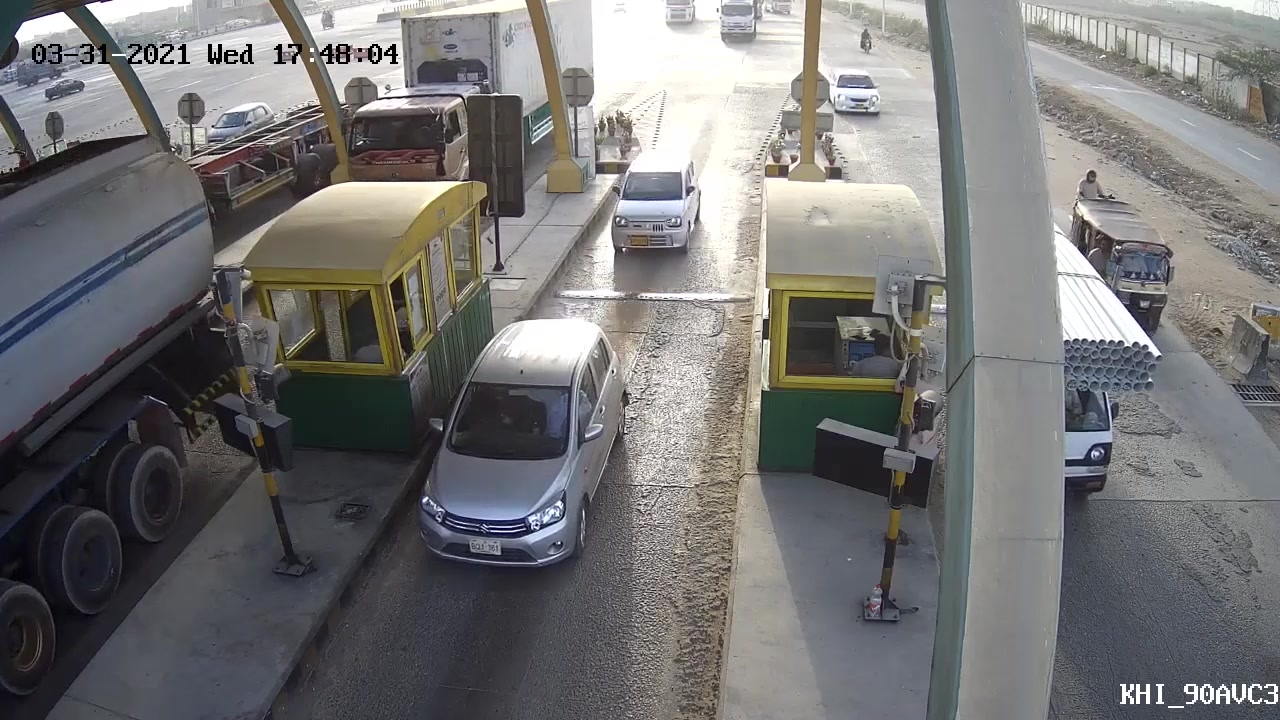F1: (411, 320, 635, 581), (599, 146, 707, 258)
